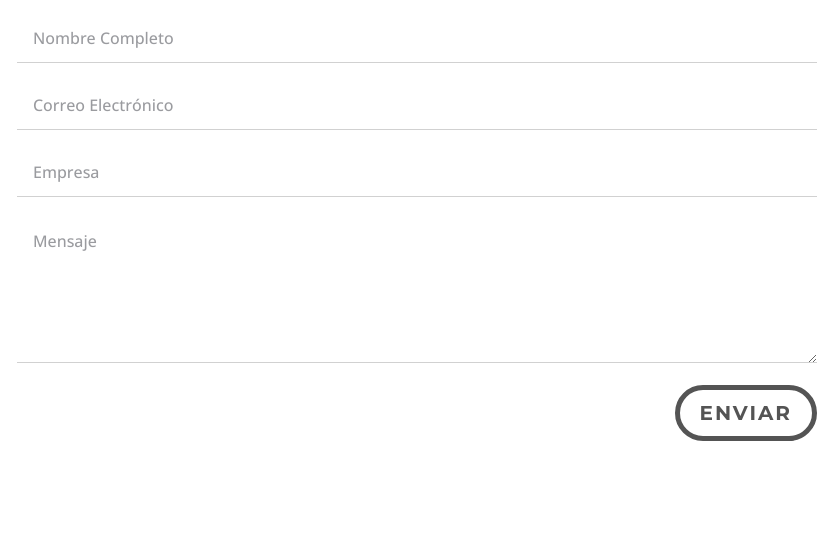
it: ContactForm — captcha › mostra o erro do captcha junto do widget e pede revisão dos campos
This screenshot has width=835, height=538.
Click the button "Enviar": (746, 413) [674, 385, 817, 441]
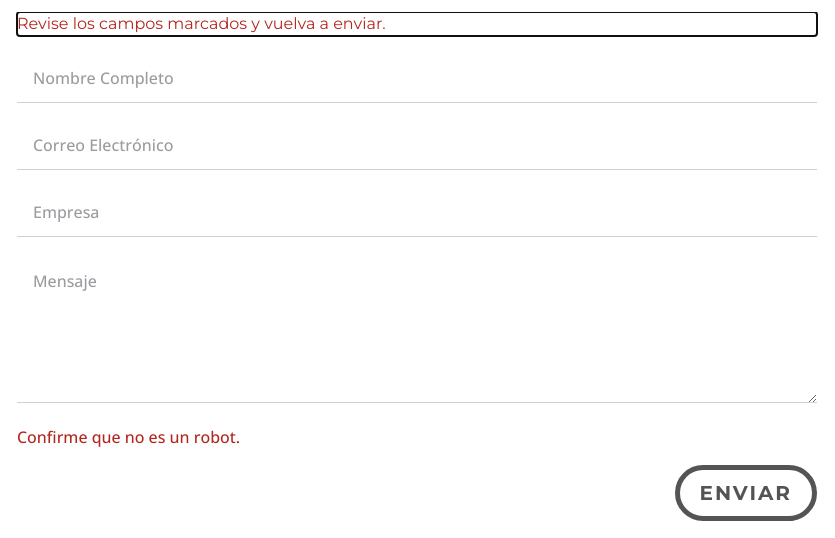
Result: the text "Confirme que no es un robot." is shown at [17, 426, 240, 448]
Result: the message reads "Revise los campos marcados y vuelva a enviar." at [17, 14, 386, 33]
